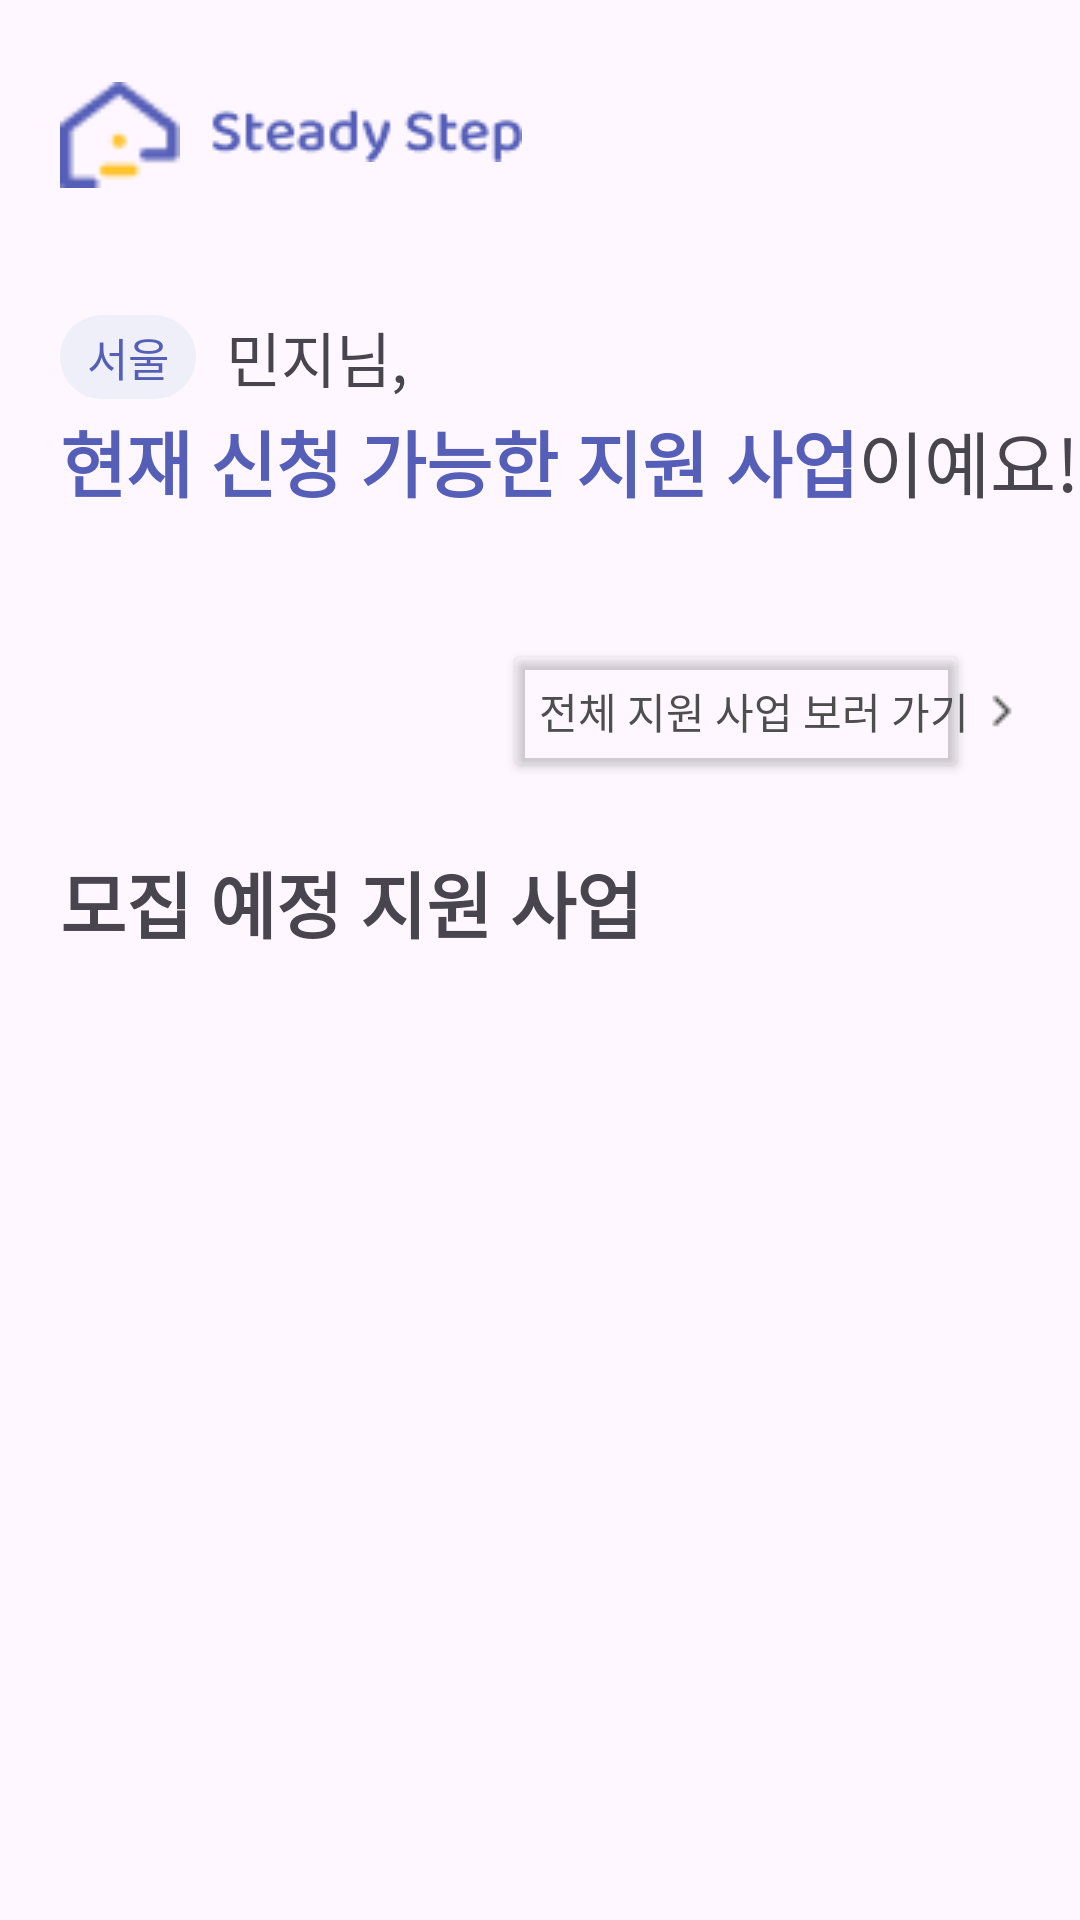

Icons on this 1080px×1920px Android screen, each with the point to tap as (x=x, y=y):
arrow forward: (x=1002, y=711)
